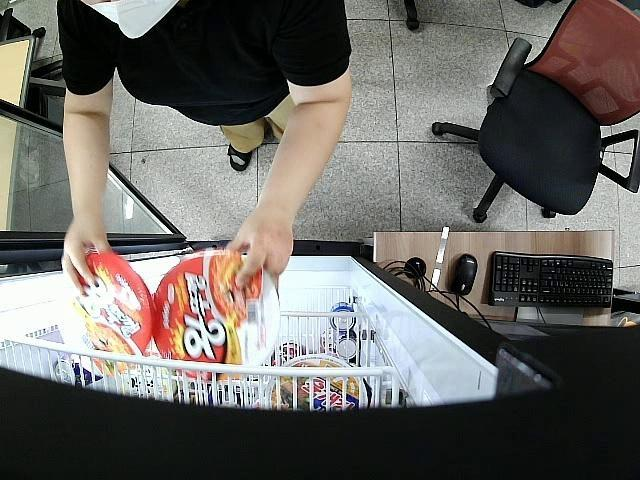10_wangTtukkeong: (153, 255, 279, 376), (54, 248, 152, 374)
